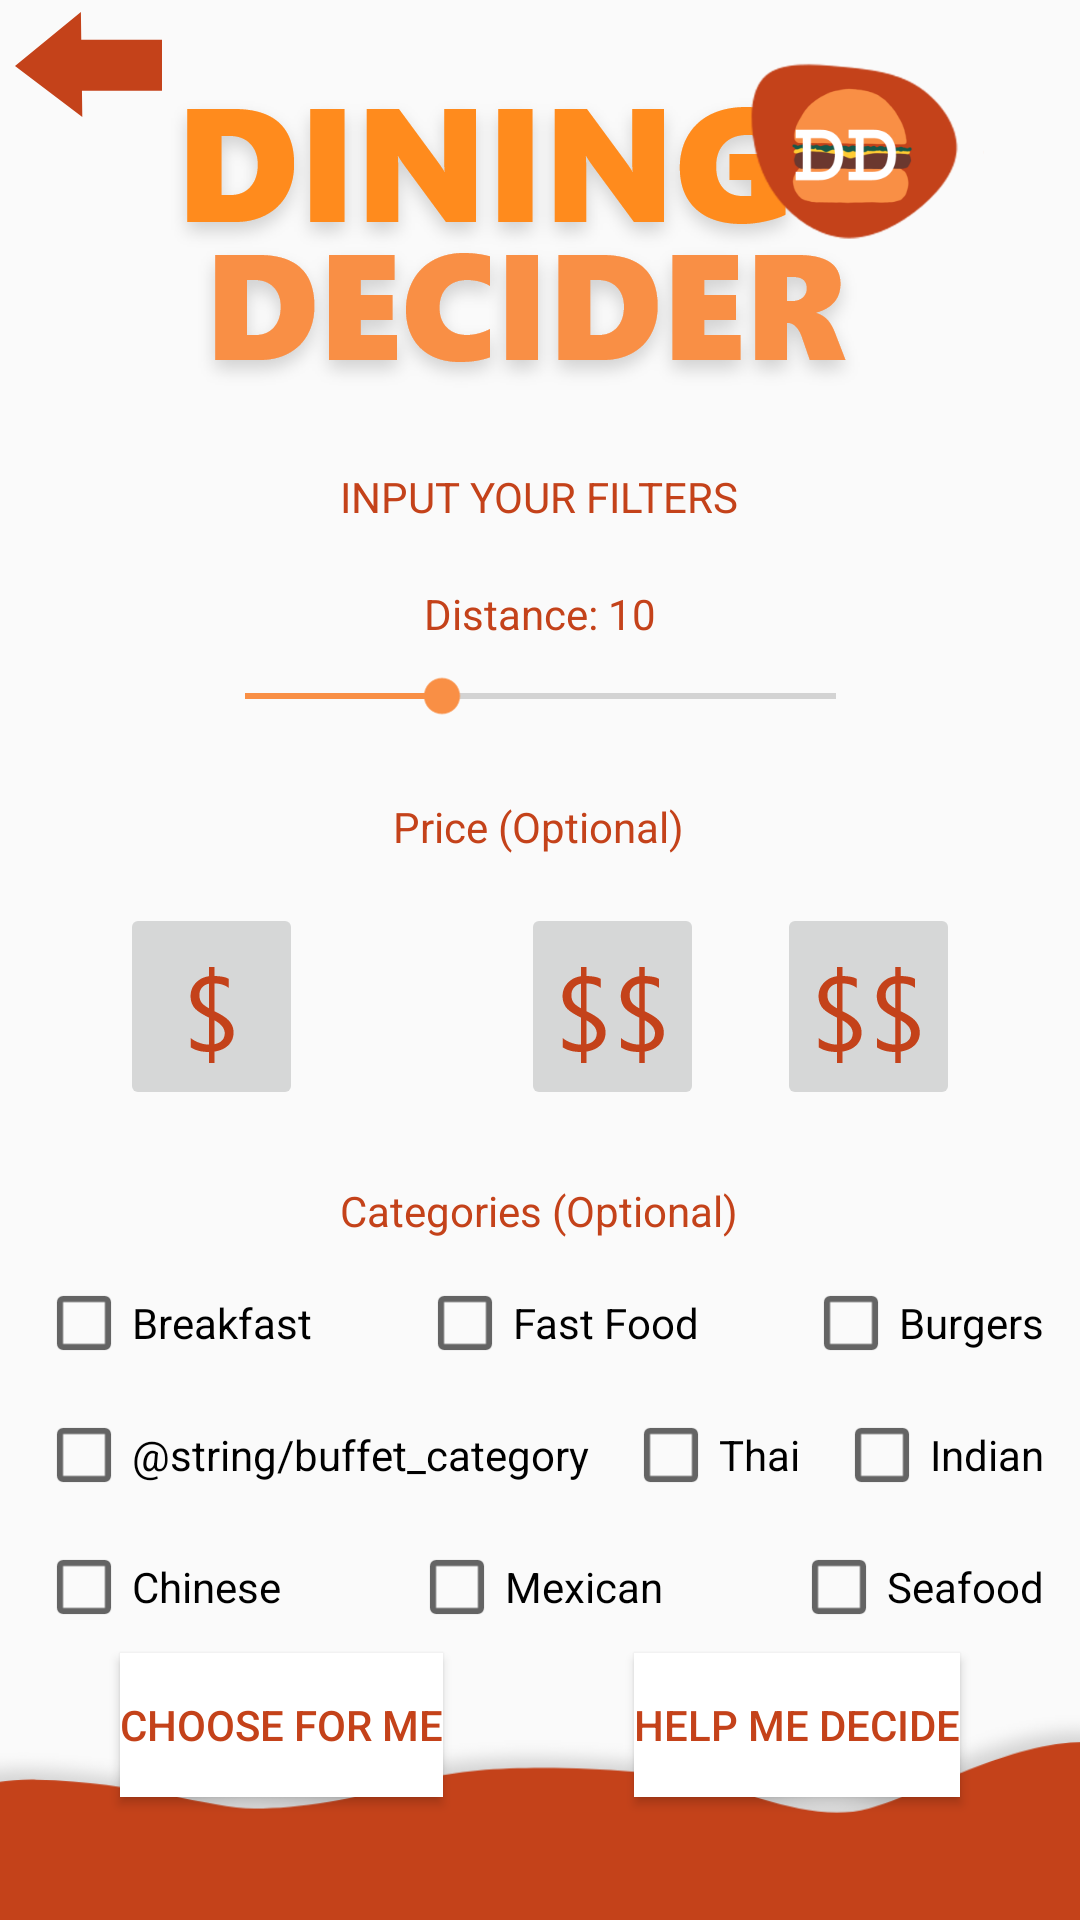

Point at icon controls on the screen. Image size 1080px×1920px, points as point (x, y).
money: point (211, 1006), point (612, 1006), point (868, 1006)
